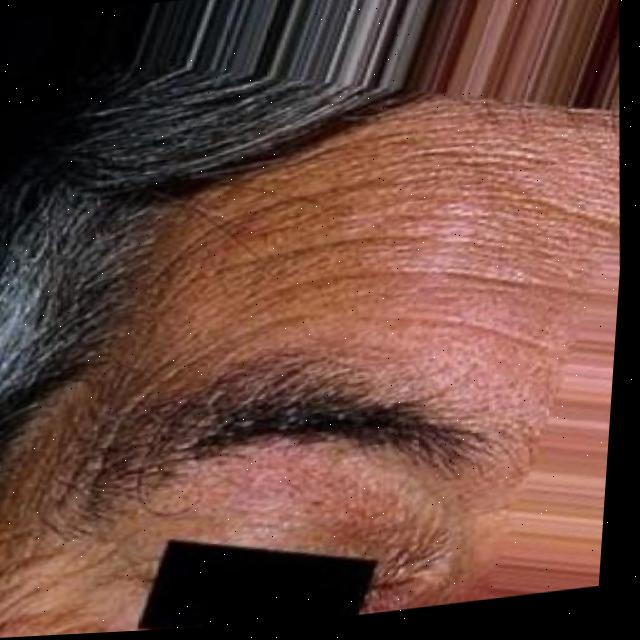Rosacea: (398, 574, 481, 609)
